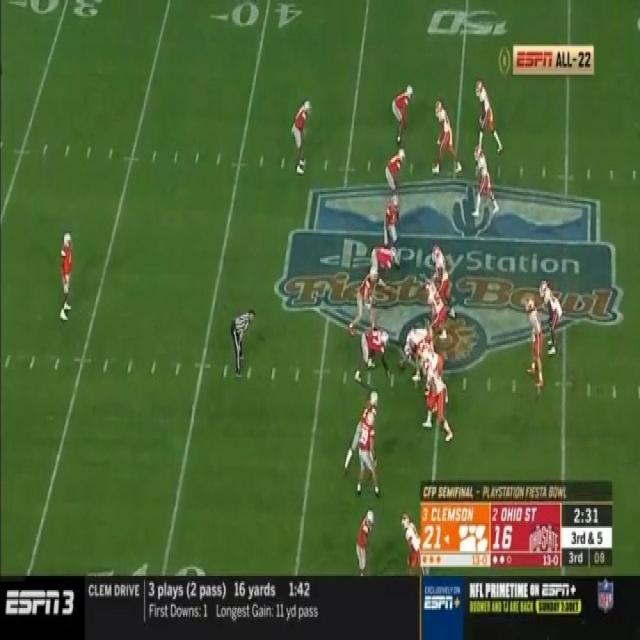center: (400, 327, 430, 370)
db: (60, 233, 76, 322), (290, 101, 310, 171), (382, 148, 407, 200), (391, 84, 410, 141), (357, 512, 375, 572)
lb: (356, 415, 381, 497), (354, 265, 379, 331), (385, 199, 399, 249)
qb: (527, 295, 544, 382)
